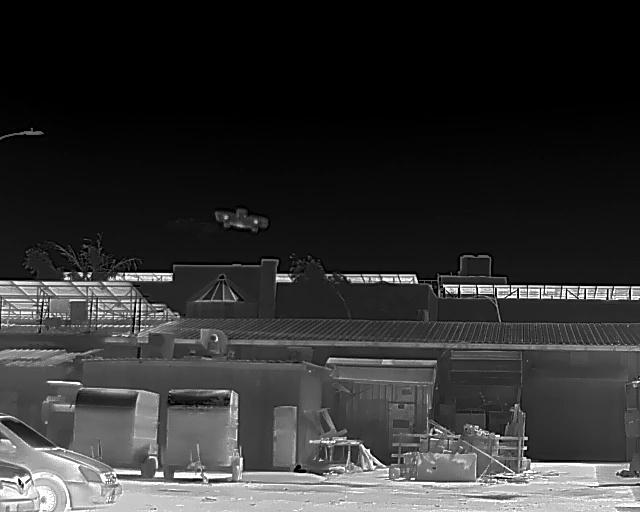fpv-drone: (215, 208, 268, 232)
